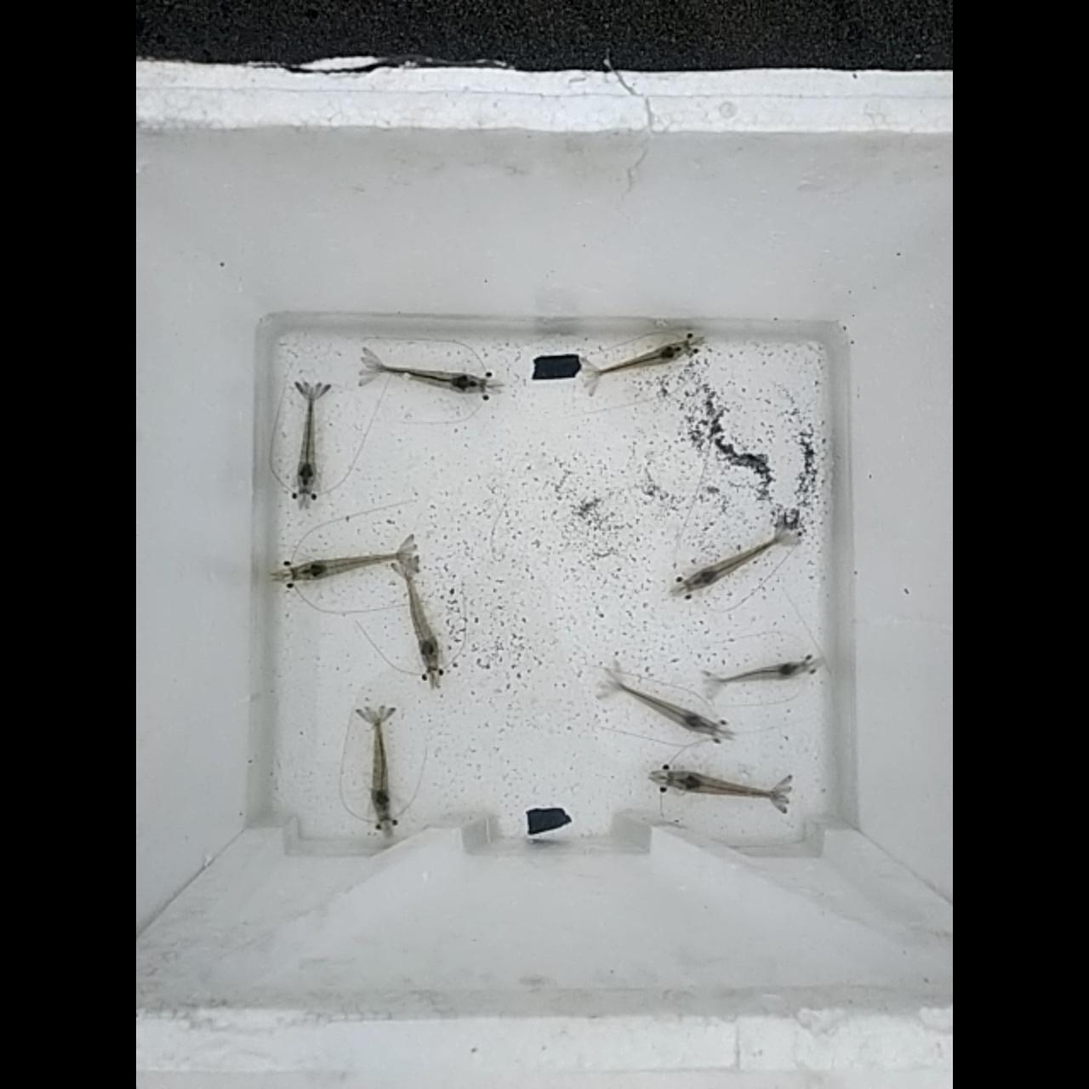box: (534, 356, 579, 379), (527, 808, 567, 832)
top_shrimp: (687, 533, 790, 589), (613, 682, 718, 733), (402, 567, 439, 665), (293, 553, 400, 579), (590, 345, 684, 373), (373, 366, 480, 390), (670, 773, 779, 795), (371, 716, 390, 818), (298, 395, 316, 490), (711, 664, 801, 682)
